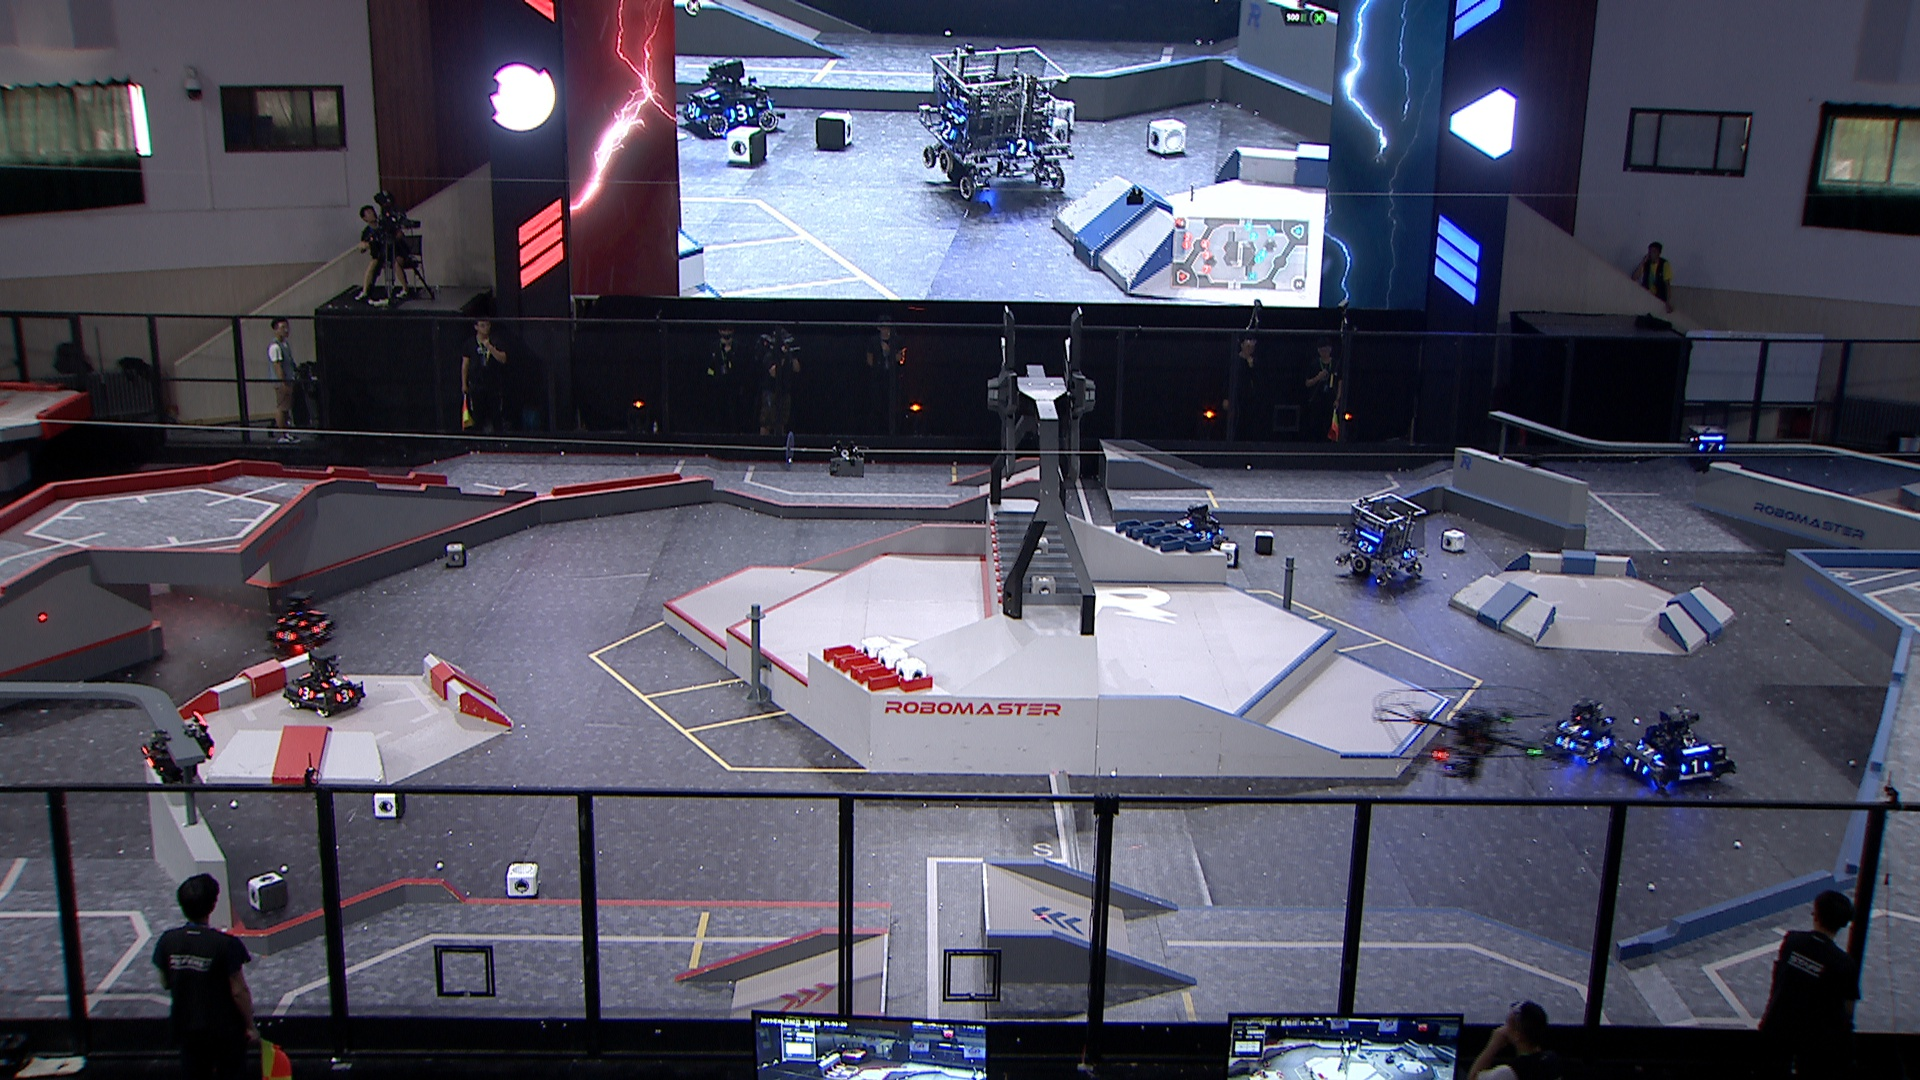armor: (1619, 756, 1652, 775), (1681, 756, 1714, 773), (1633, 742, 1664, 760), (1557, 721, 1590, 736), (1697, 442, 1727, 456), (320, 674, 351, 688), (1551, 735, 1576, 752), (295, 684, 316, 704), (334, 687, 357, 704), (277, 617, 309, 628), (276, 629, 297, 645), (1596, 736, 1615, 752), (1192, 529, 1215, 541), (1178, 517, 1193, 531), (311, 622, 328, 636), (1354, 541, 1373, 553), (1403, 547, 1416, 559)
car: (1610, 703, 1738, 796), (1335, 491, 1433, 588), (280, 647, 368, 717), (1539, 695, 1622, 765), (266, 588, 343, 654), (1167, 504, 1229, 555)
ignore: (918, 44, 1073, 196), (683, 55, 779, 136)
watcher: (140, 709, 214, 790), (1681, 419, 1733, 473)
